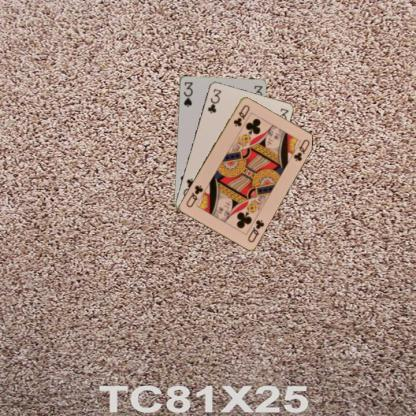3c: (205, 86, 223, 114)
3s: (181, 79, 193, 108)
Qc: (230, 102, 250, 128), (245, 217, 265, 243)
